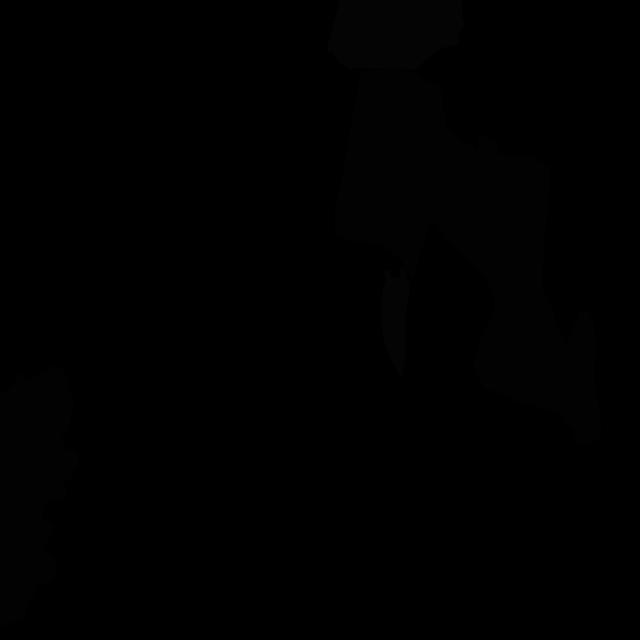cardboard: (334, 70, 550, 284), (473, 218, 579, 423), (0, 365, 80, 628), (565, 308, 602, 446)
soft_plastic: (328, 0, 466, 70), (381, 268, 410, 380)
